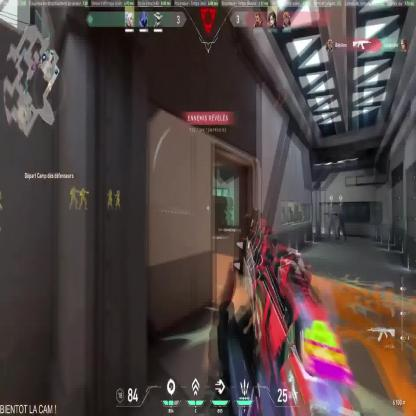enemy: (79, 186, 90, 209), (69, 184, 79, 209), (106, 186, 113, 210), (114, 188, 121, 210), (0, 190, 2, 232)
enemy_head: (108, 188, 112, 192), (116, 188, 119, 193), (72, 185, 75, 189), (82, 188, 84, 192)
